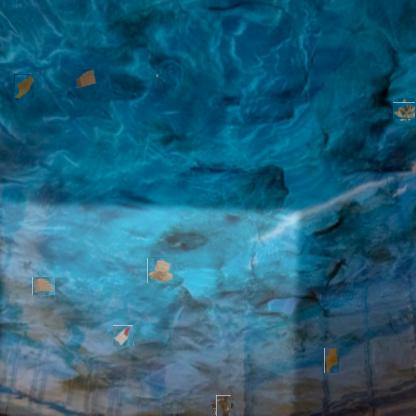dirty: (148, 257, 174, 284), (395, 100, 416, 121), (75, 68, 97, 88), (34, 276, 54, 297), (113, 326, 134, 346), (213, 397, 233, 416)
liquid: (14, 74, 34, 98), (324, 347, 339, 373)
